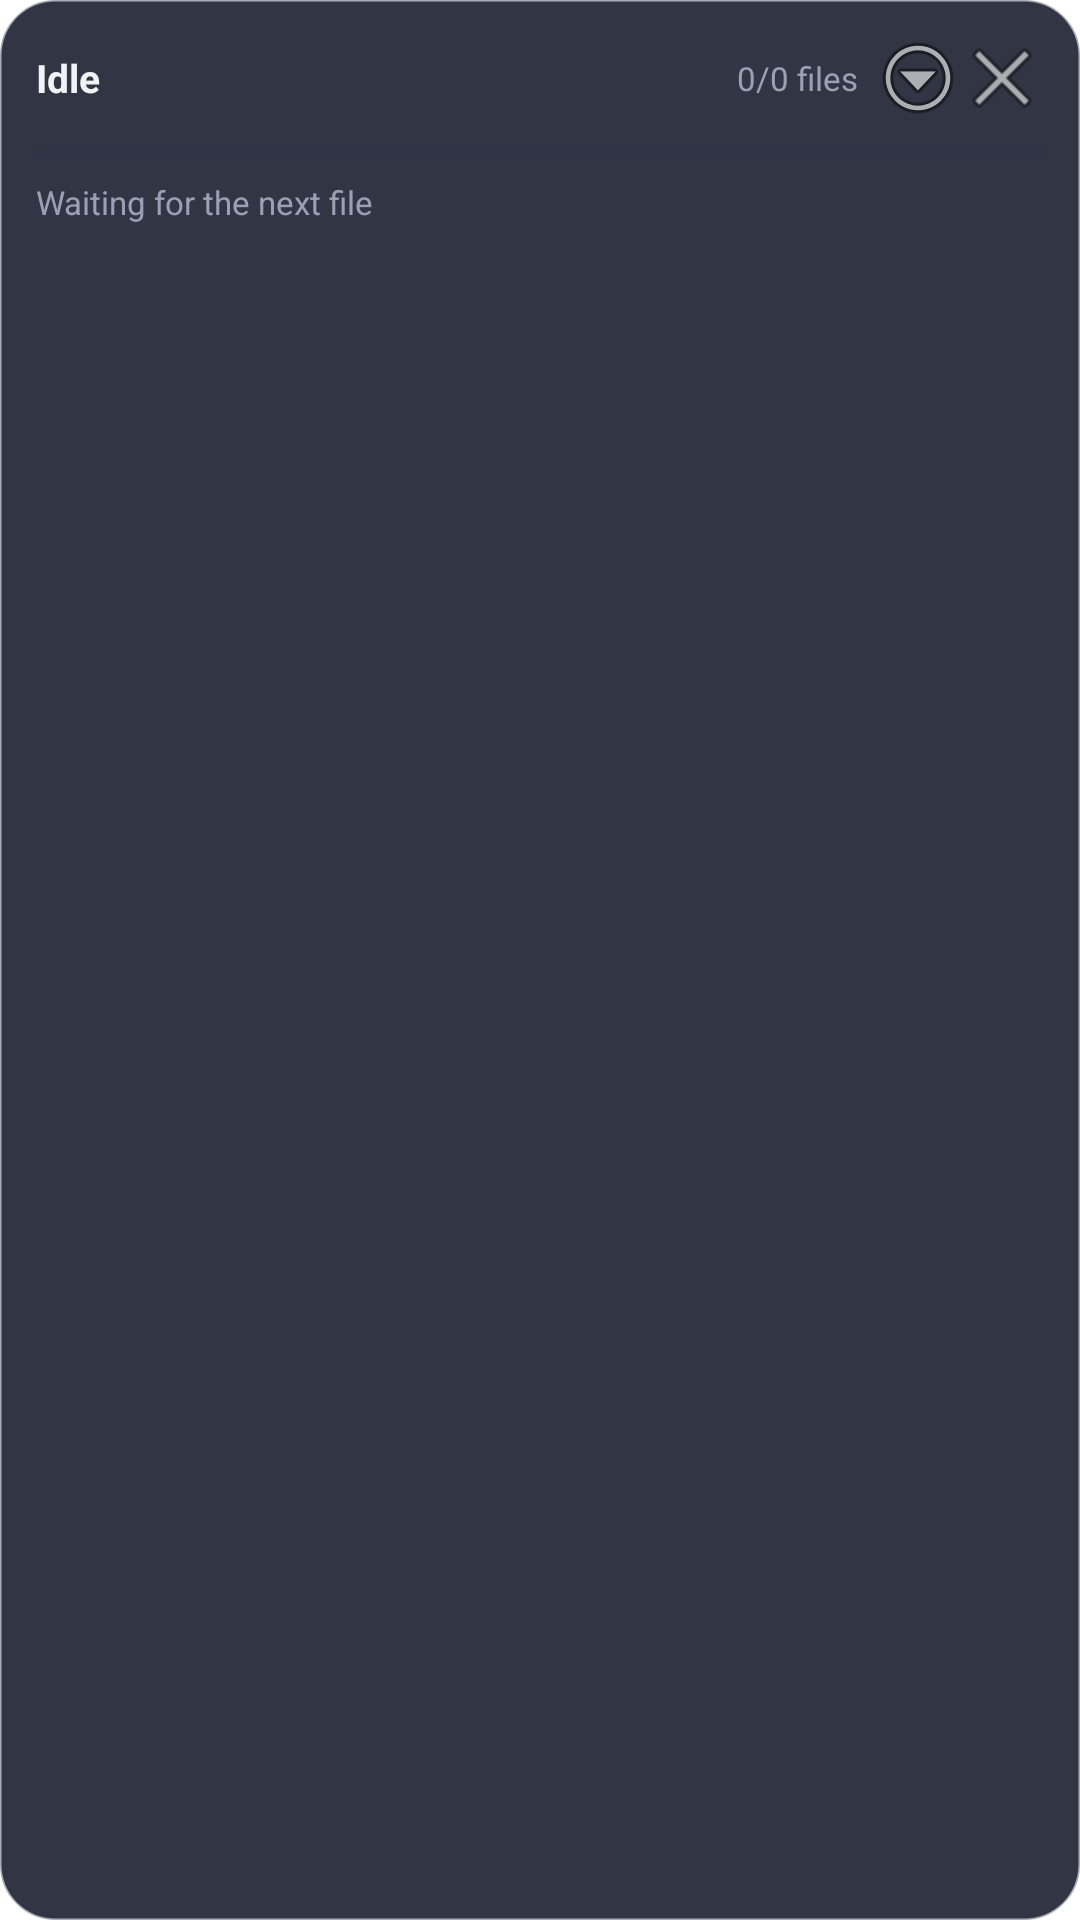

Where icons sit on this 1080px×1920px app screen, as {"left": x1, "top": y1, "right": x2, "bottom": y2}:
Close: {"left": 974, "top": 50, "right": 1030, "bottom": 106}
Expand: {"left": 883, "top": 43, "right": 953, "bottom": 113}
